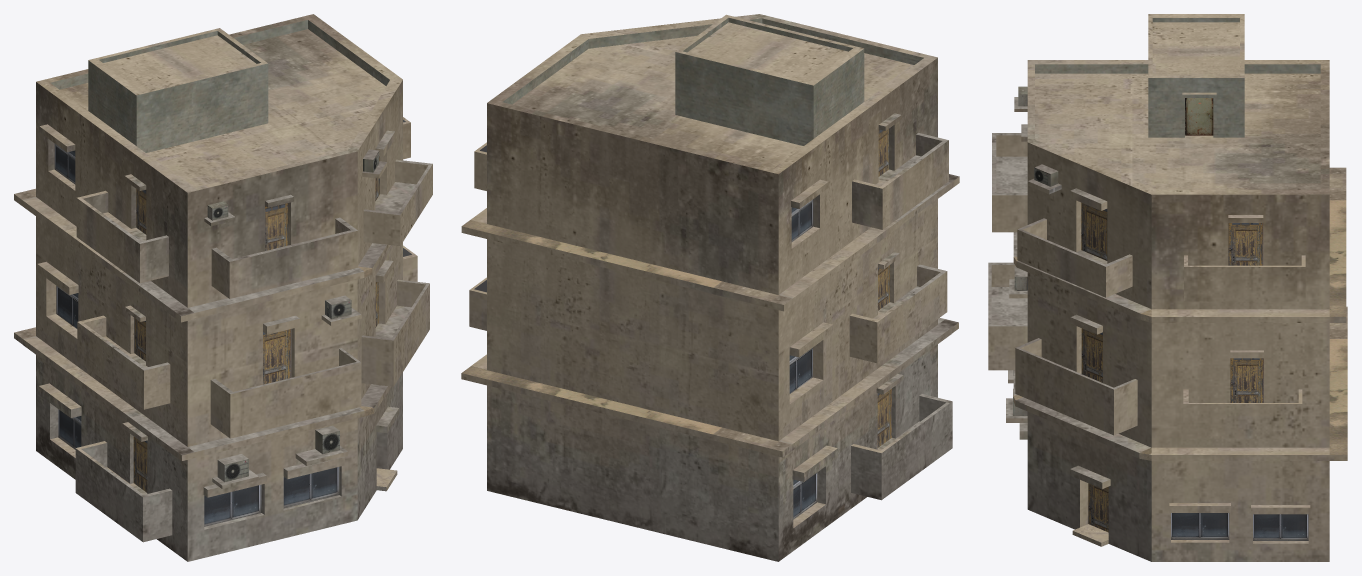
The picture shows the model from 3 angles, left to right: view 1: azimuth 30°, elevation 25°; view 2: azimuth 150°, elevation 25°; view 3: azimuth 270°, elevation 25°; orthographic projection. The views are drawn at different scales.
Visible parts, largest first — view 1: Component_1_1; view 2: Component_1_1; view 3: Component_1_1.
Part boxes in pixels (bbox=[...]): Component_1_1: bbox=[14, 14, 432, 561]; Component_1_1: bbox=[461, 14, 959, 561]; Component_1_1: bbox=[988, 14, 1347, 561].
Bounding box in the file's own units: 308 × 366 × 286.
